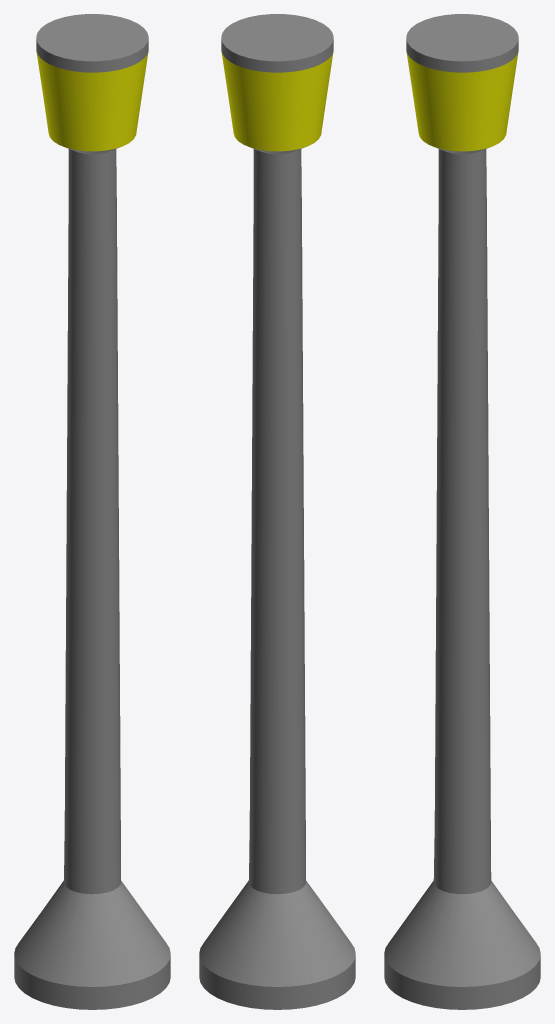
The model's file is Lamp.fbx.
The picture shows the model from 3 angles, left to right: view 1: azimuth 30°, elevation 25°; view 2: azimuth 150°, elevation 25°; view 3: azimuth 270°, elevation 25°; orthographic projection.
Parts seen in each view (by area): view 1: Circus Lamp; view 2: Circus Lamp; view 3: Circus Lamp.
Part boxes in pixels (x1,y1,x2,y2): Circus Lamp: (14, 14, 170, 1009); Circus Lamp: (199, 14, 355, 1009); Circus Lamp: (384, 14, 540, 1009).
Size of the model in its own units: 25.32 by 168 by 25.32.
